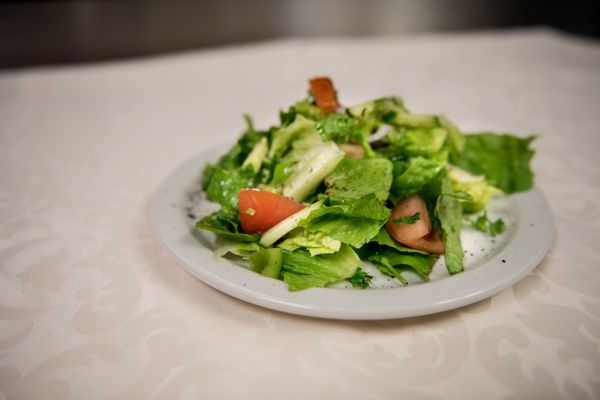curry: (451, 131, 539, 193)
